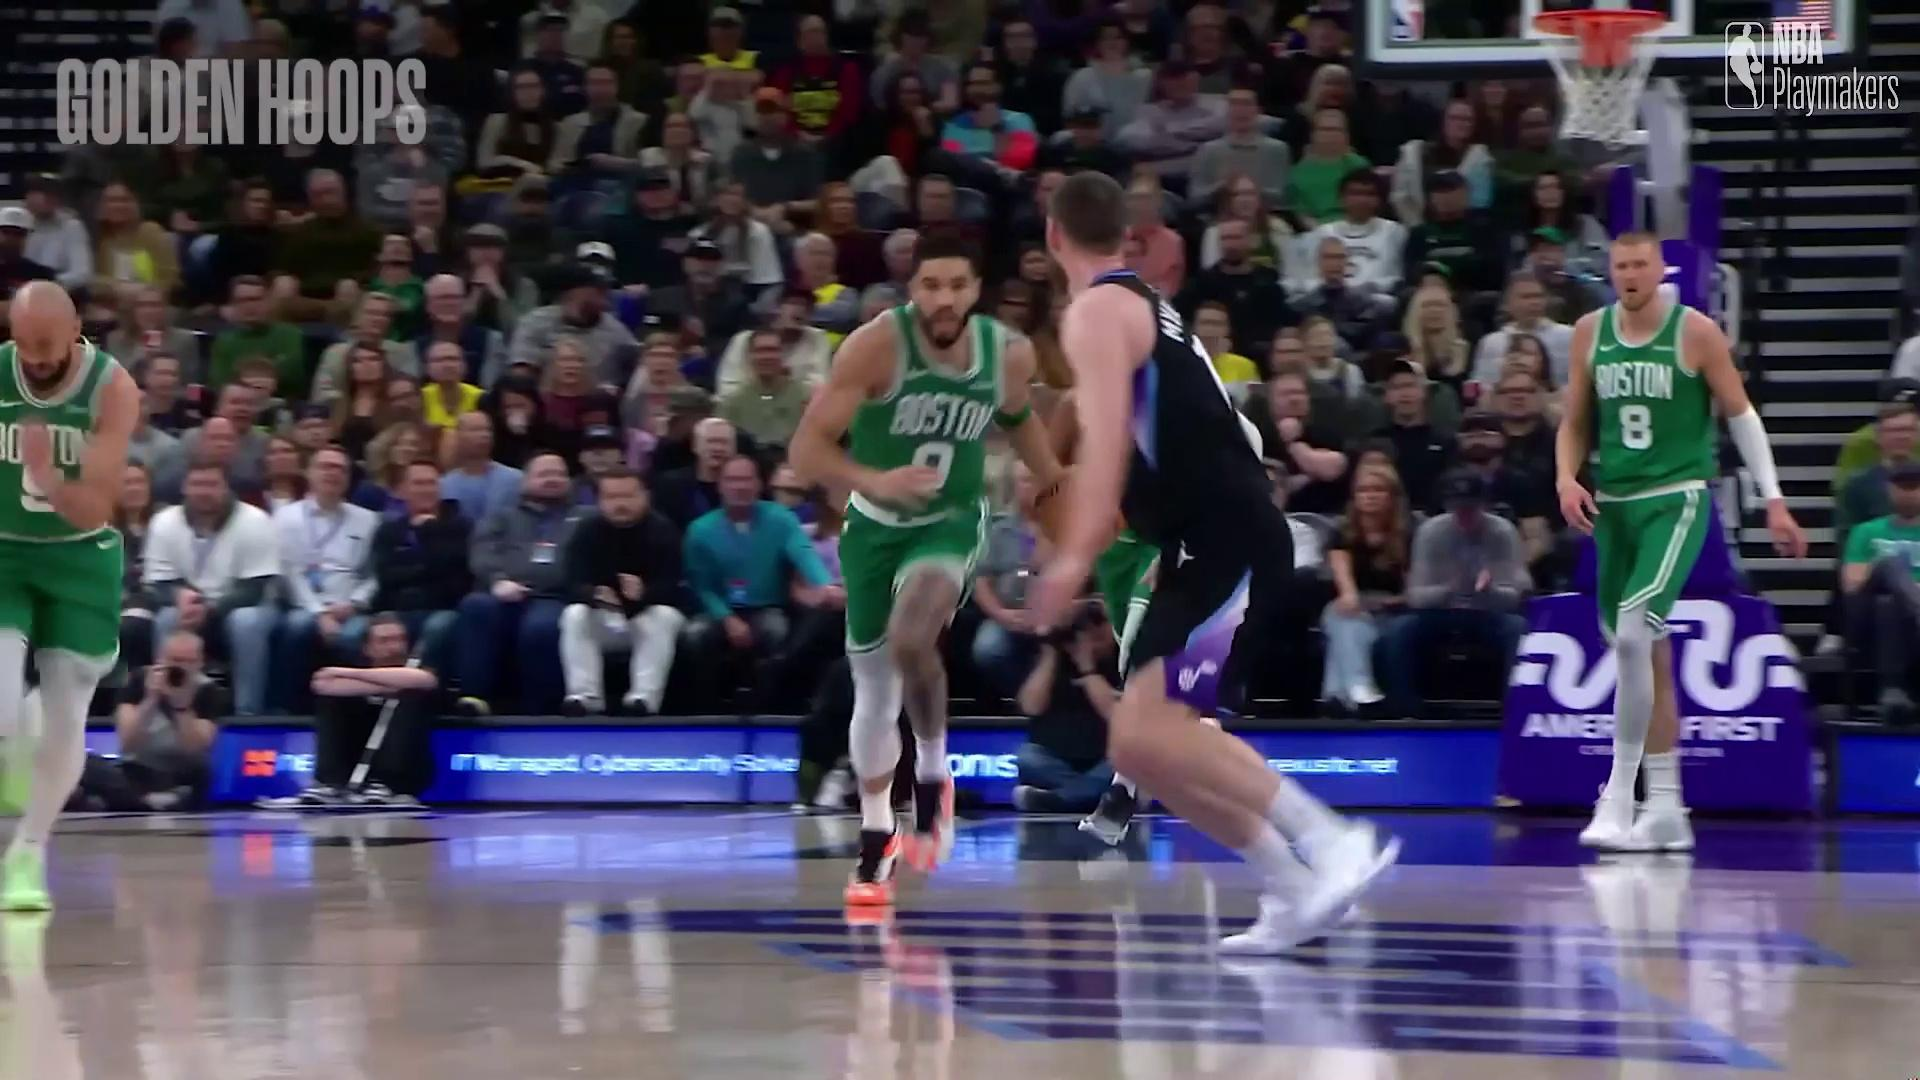hoop: (1520, 3, 1683, 177)
